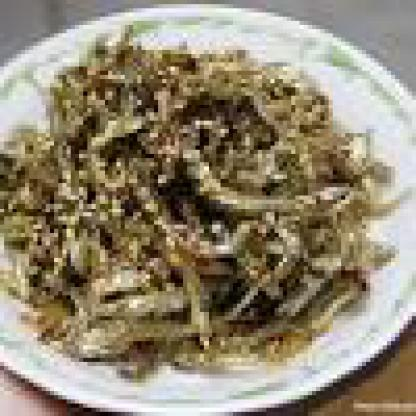stir-fried anchovies: (4, 34, 370, 350)
